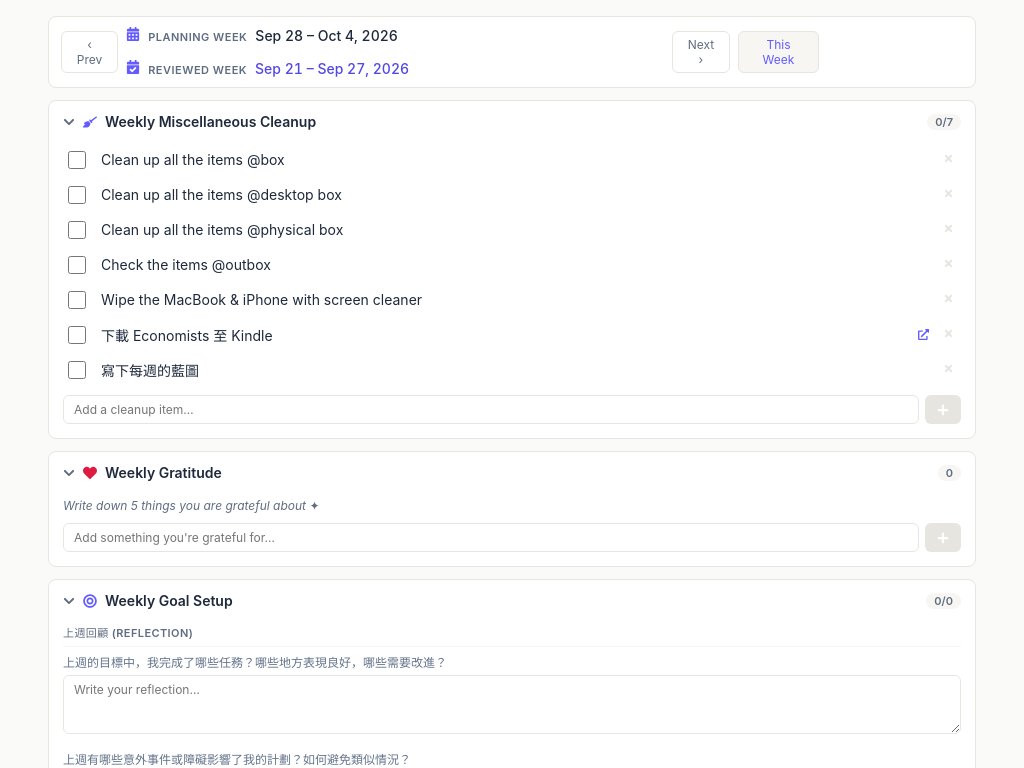
it: WeeklyReview › reports a failed write as "Could not save — retry"
Replace the text in the 1st field showing "Clean up all the items @box" with "Renamed item" at (514, 160), box [94,147,933,172]
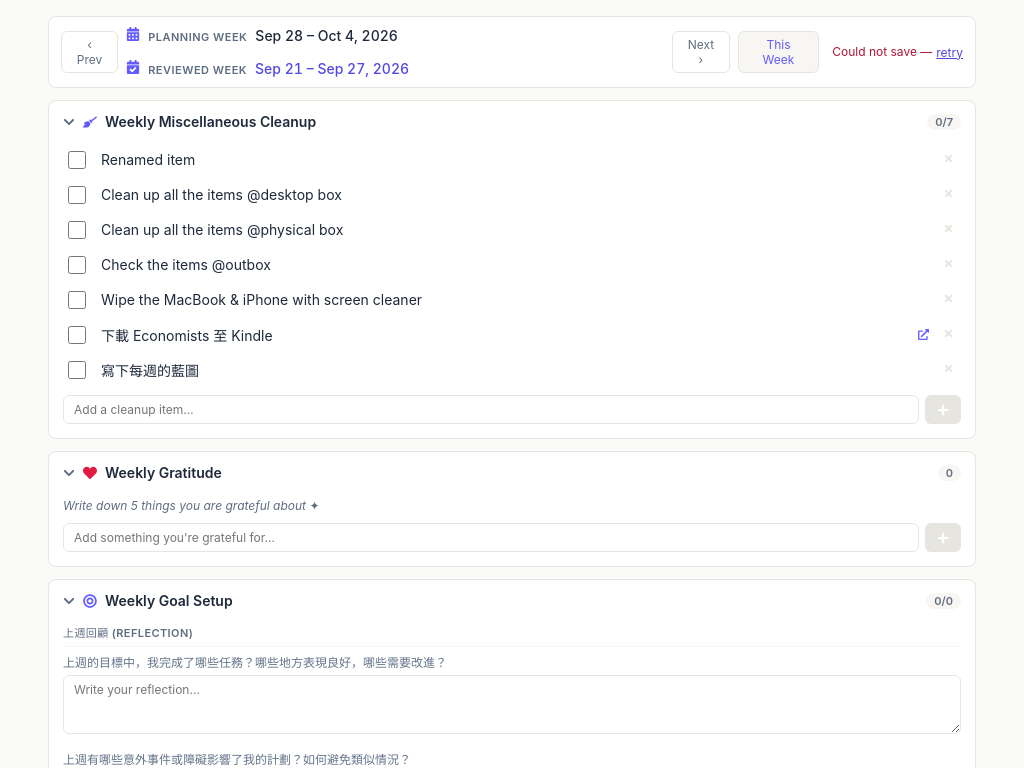
Check: the message shows "Could not save —", box [832,44,932,59]
Check: the button "retry" is shown, box [936,44,963,60]
